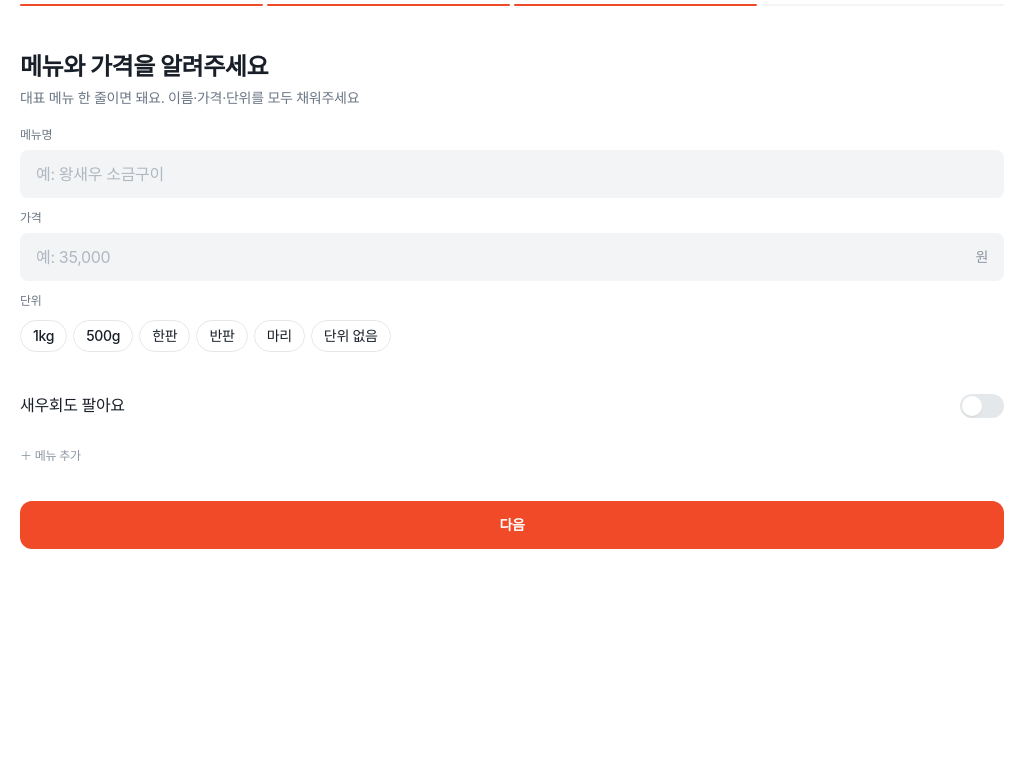
Test case: ReportPanel 3단계 — 메뉴와 가격 › [＋ 메뉴 추가]로 기타 줄을 넣을 수 있다 — 카테고리는 묻지 않는다(이름·가격·단위만)
Click the button "＋ 메뉴 추가" at {"x": 50, "y": 456}, box [20,448,81,464]
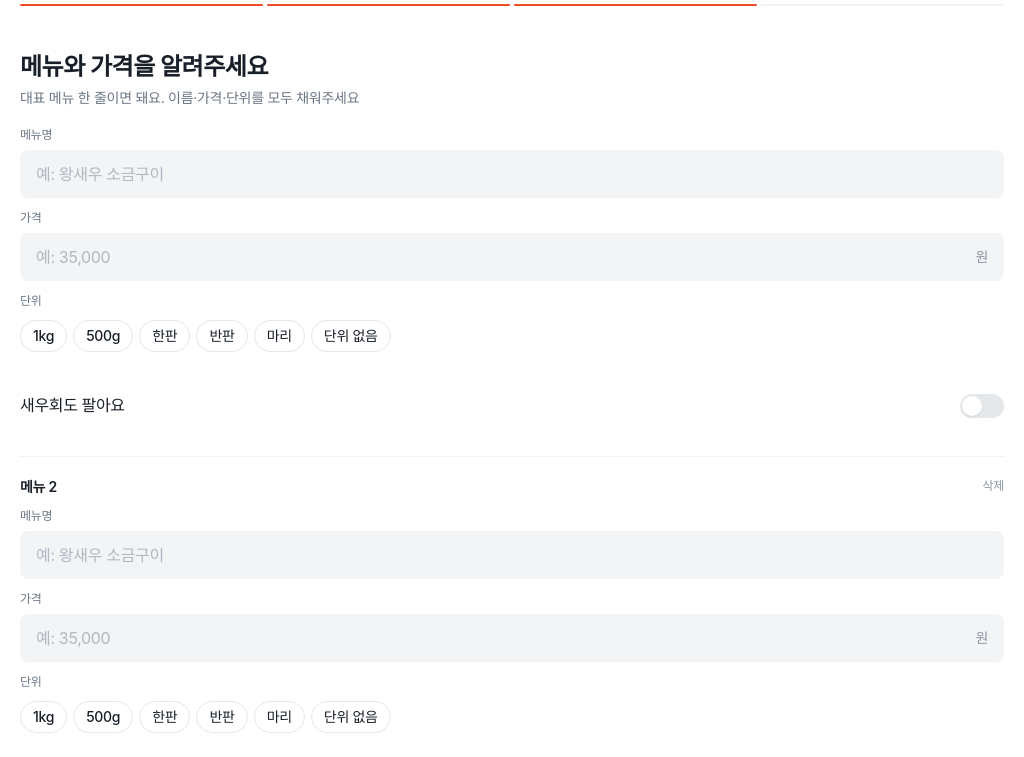
Expected: the text "메뉴 2" is shown, [20,477,57,496]
Expected: the number of fields labelled "메뉴명" is 2, [36,150,988,198]; [36,531,988,579]
